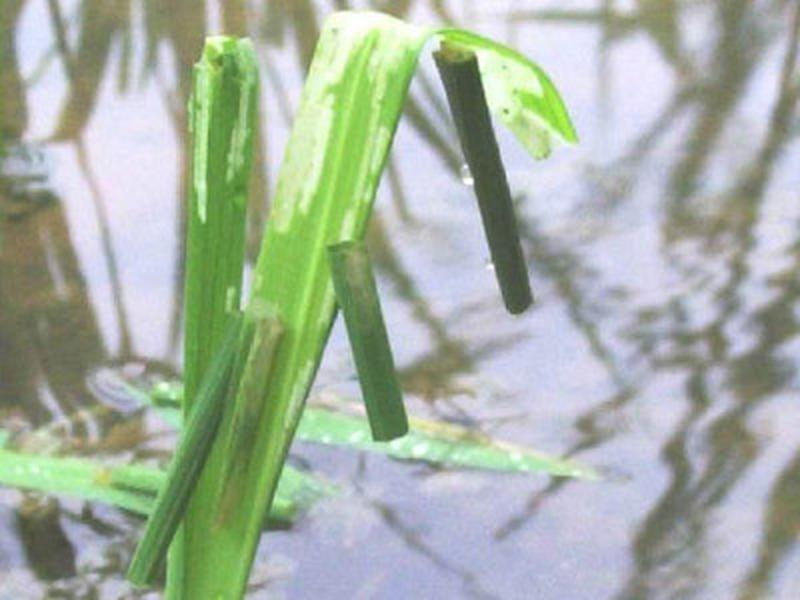Rice_case_worm: (402, 35, 556, 319), (307, 199, 431, 469)
